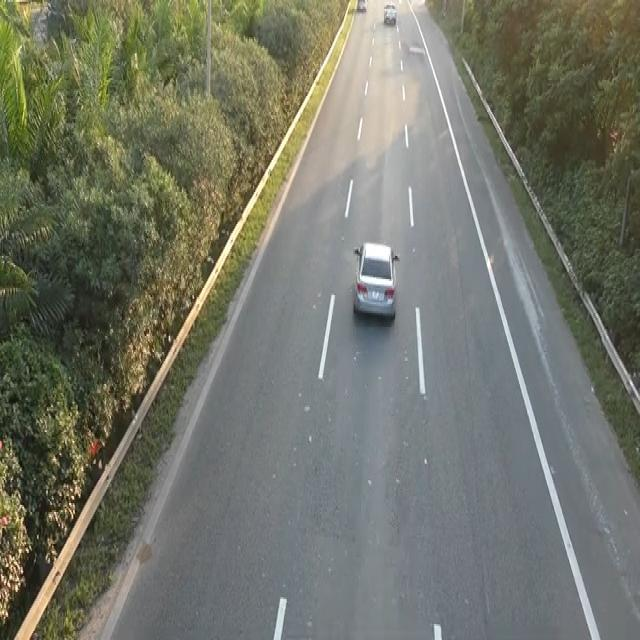bus: (350, 236, 400, 322)
car: (382, 1, 397, 26)
